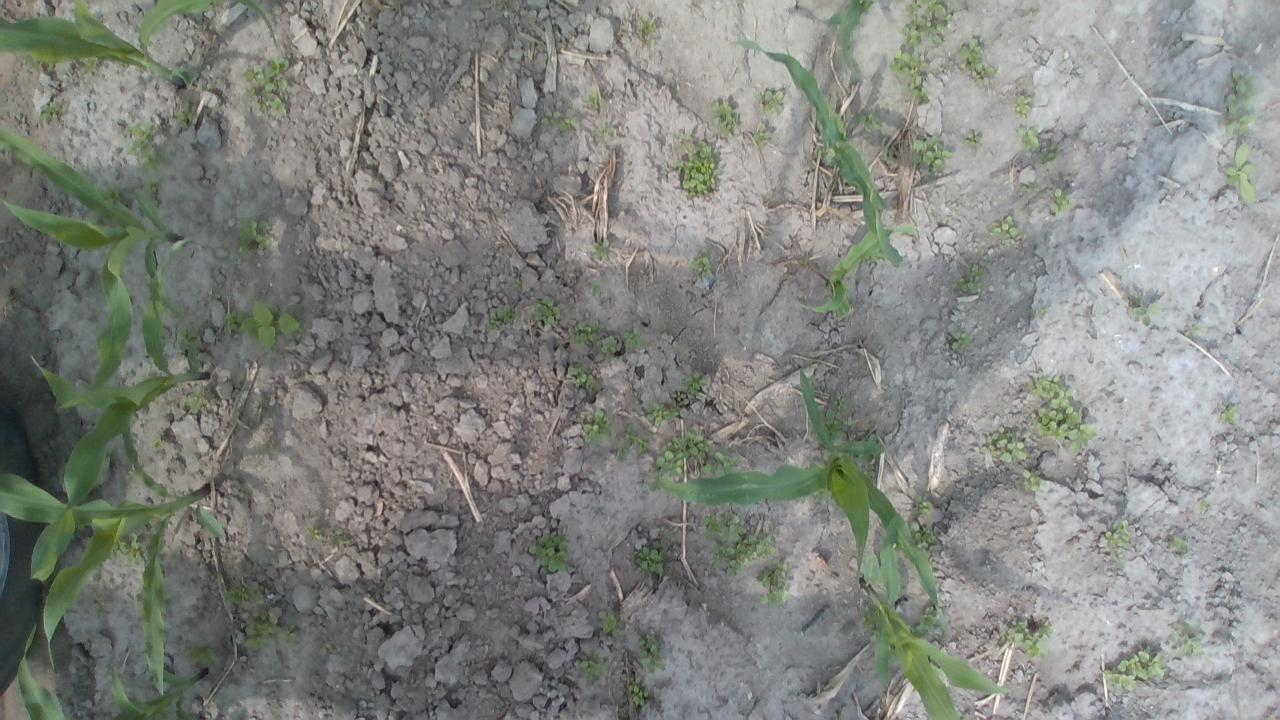Maize: (651, 366, 940, 614), (0, 415, 227, 698), (29, 240, 212, 583), (0, 126, 183, 411), (737, 36, 904, 266), (860, 519, 1010, 720), (0, 0, 279, 94), (17, 626, 204, 720), (799, 225, 912, 321), (830, 0, 877, 76)
Weeds: (1028, 368, 1096, 452), (225, 300, 301, 354), (675, 136, 721, 200), (244, 58, 292, 115), (702, 514, 746, 576), (896, 0, 951, 49), (1104, 646, 1166, 689), (1221, 72, 1257, 138), (128, 122, 170, 174), (889, 50, 929, 102), (1224, 143, 1258, 204), (530, 532, 570, 578), (981, 425, 1028, 464), (1006, 621, 1052, 660), (754, 560, 788, 607), (960, 38, 996, 81), (911, 136, 952, 172), (236, 216, 272, 254), (822, 391, 849, 437), (710, 97, 741, 135), (584, 407, 614, 445), (654, 438, 682, 478), (699, 450, 738, 478), (910, 607, 943, 640), (682, 430, 714, 464), (1174, 622, 1204, 656), (991, 215, 1021, 249), (1104, 518, 1132, 554), (636, 639, 664, 674), (745, 533, 776, 563), (1131, 294, 1160, 326), (956, 263, 985, 295), (636, 546, 666, 576), (118, 530, 144, 564), (647, 401, 680, 427), (186, 642, 218, 668), (1014, 124, 1042, 153), (534, 295, 562, 324), (573, 318, 602, 346), (244, 622, 272, 650), (908, 519, 936, 547), (1049, 187, 1075, 217), (224, 581, 255, 606), (860, 602, 880, 640), (578, 654, 606, 681), (636, 14, 657, 48), (567, 362, 592, 390), (760, 88, 786, 114), (628, 676, 649, 706), (102, 182, 128, 206), (488, 304, 514, 328), (856, 452, 876, 483), (1218, 401, 1242, 426), (176, 326, 199, 352), (622, 325, 641, 353), (688, 251, 712, 273), (854, 110, 880, 130), (600, 610, 620, 636), (600, 336, 618, 364), (684, 373, 707, 394), (591, 239, 610, 263), (950, 330, 974, 349), (86, 209, 110, 228), (1022, 468, 1042, 490), (913, 494, 931, 518), (1014, 94, 1033, 116), (1166, 534, 1189, 552), (1040, 142, 1058, 164), (143, 175, 158, 200), (582, 92, 602, 110), (881, 146, 898, 166), (594, 122, 616, 137), (542, 110, 560, 128), (40, 103, 59, 120), (78, 56, 98, 72), (1184, 322, 1206, 336), (559, 116, 580, 130), (636, 436, 652, 452), (754, 129, 769, 146), (278, 628, 296, 642), (1018, 182, 1038, 194), (183, 396, 200, 410), (962, 133, 981, 145), (622, 424, 636, 440), (1035, 303, 1049, 319), (676, 130, 691, 144), (306, 526, 321, 540), (1198, 499, 1214, 511), (179, 112, 191, 128), (94, 598, 106, 614), (334, 528, 344, 546), (589, 282, 601, 296), (672, 391, 686, 402), (152, 436, 162, 448), (512, 279, 522, 289)
